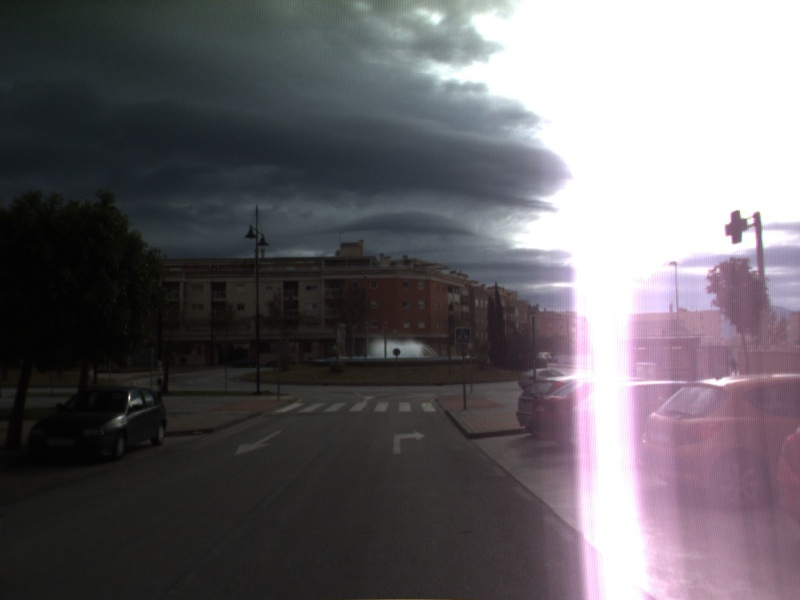RIGHT: (391, 429, 427, 456)
